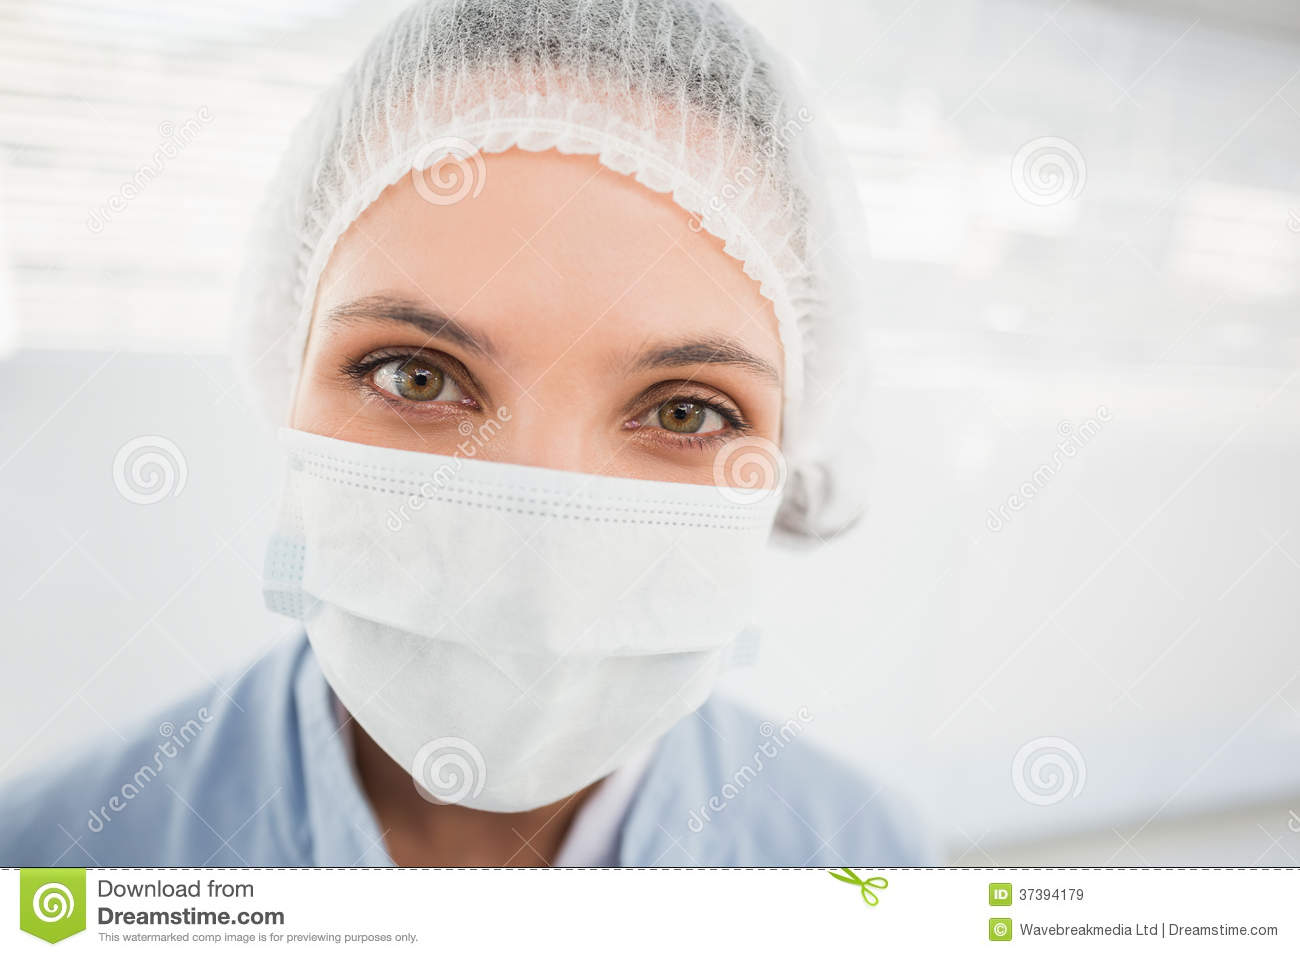mask: (269, 429, 769, 824)
